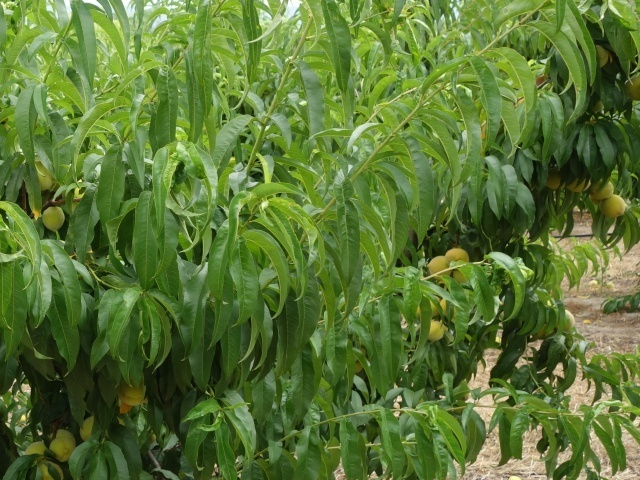peach: (117, 371, 152, 411), (42, 428, 80, 462), (40, 199, 67, 238), (598, 192, 628, 221), (567, 169, 595, 200), (20, 438, 50, 466), (428, 253, 455, 282), (31, 458, 67, 479), (543, 164, 570, 192), (422, 314, 446, 344), (77, 411, 101, 441), (445, 244, 471, 271), (591, 177, 618, 203)
